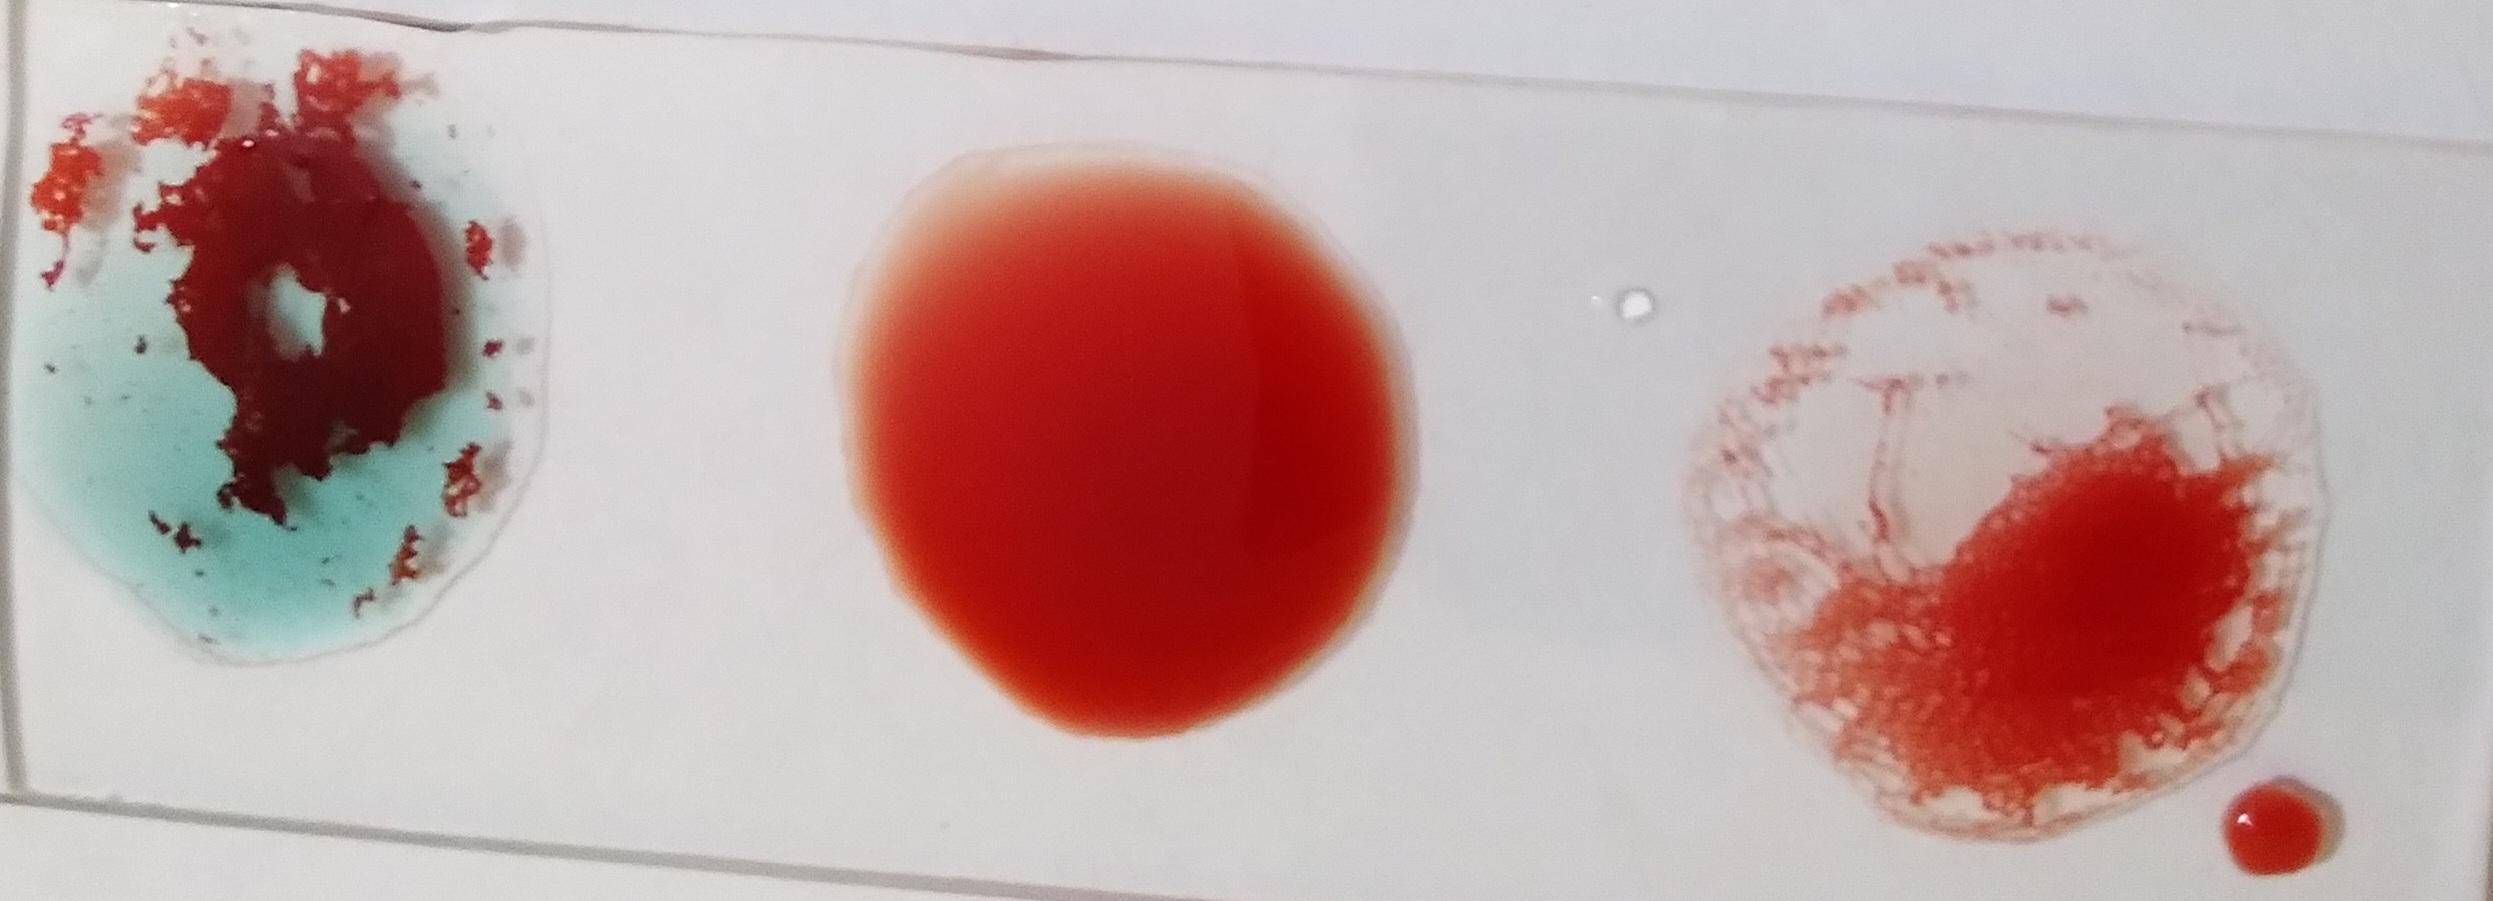A: (16, 38, 518, 661)
D: (1708, 218, 2291, 828)
